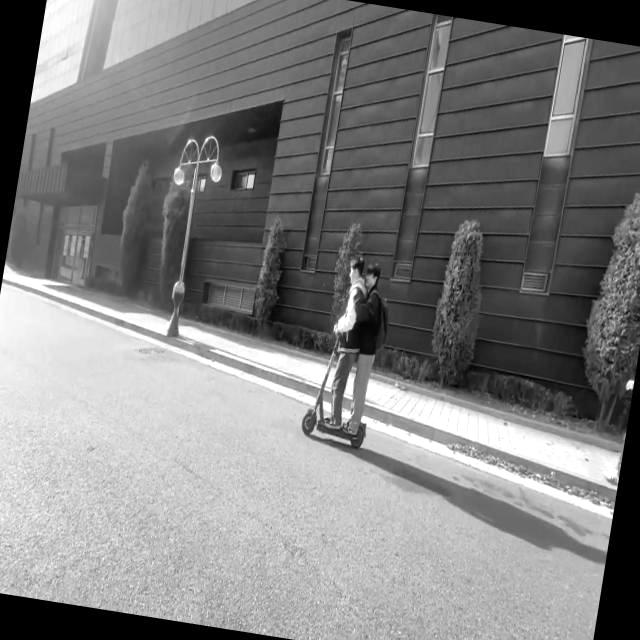bare_head: (362, 259, 381, 293), (343, 254, 365, 282)
human: (338, 258, 389, 432), (319, 252, 365, 425)
kickboard: (295, 402, 368, 455)
